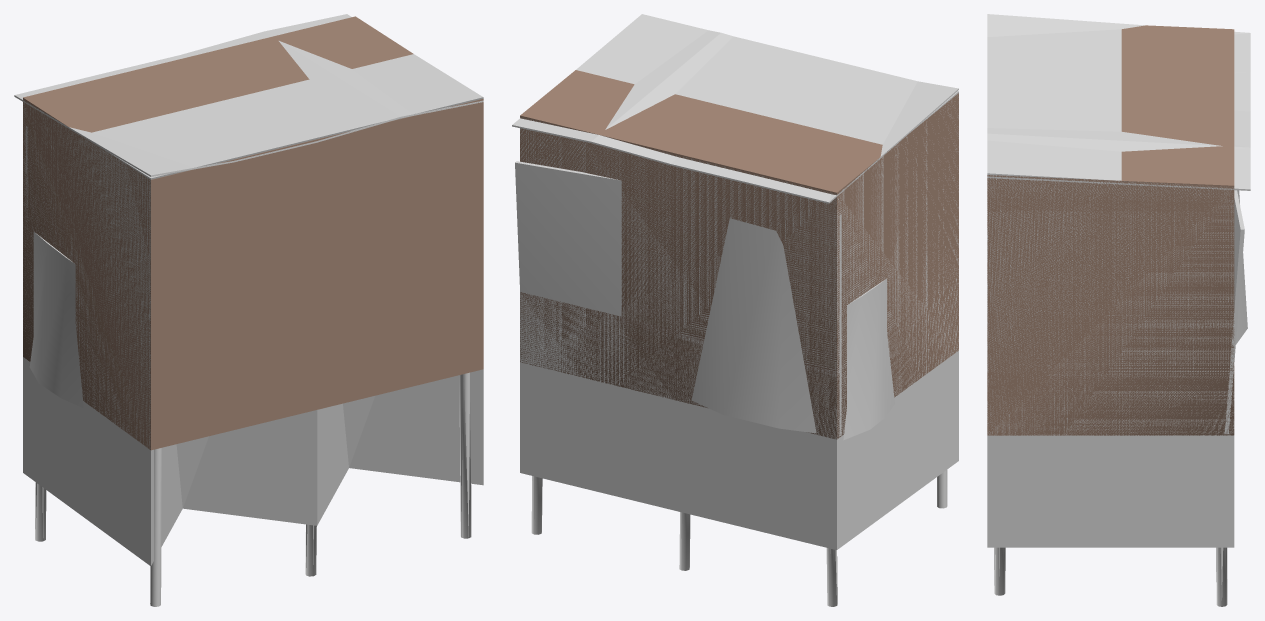
Rendered from ut_busstop_old.dae.
The picture shows the model from 3 angles, left to right: view 1: azimuth 30°, elevation 25°; view 2: azimuth 150°, elevation 25°; view 3: azimuth 270°, elevation 25°; orthographic projection. The views are drawn at different scales.
Visible parts, largest first — view 1: ut_busstop_old_a15, Colmesh-1, ut_busstop_old_a1200, ut_busstop_old_a220; view 2: Colmesh-1, ut_busstop_old_a15, ut_busstop_old_a1200; view 3: ut_busstop_old_a15, Colmesh-1, ut_busstop_old_a1200.
Boxes of the visible parts, box(x1,y1,x2,y2) form: ut_busstop_old_a15: box(23, 16, 483, 450); Colmesh-1: box(23, 54, 483, 566); ut_busstop_old_a1200: box(14, 14, 483, 606); ut_busstop_old_a220: box(35, 372, 469, 567); Colmesh-1: box(520, 14, 958, 549); ut_busstop_old_a15: box(520, 70, 958, 439); ut_busstop_old_a1200: box(512, 30, 958, 606); ut_busstop_old_a15: box(987, 25, 1234, 435); Colmesh-1: box(987, 29, 1234, 547); ut_busstop_old_a1200: box(987, 14, 1250, 606).
Bounding box in the file's own units: 3.09 × 2.13 × 3.93.
